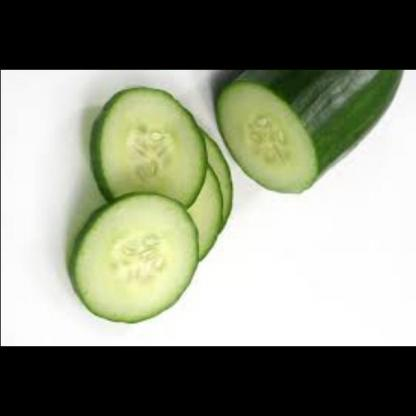cucumber: (61, 89, 243, 326), (200, 69, 404, 201)
